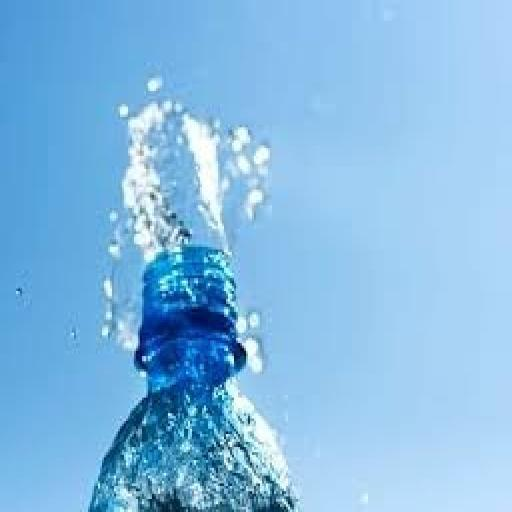bottle: (90, 235, 305, 512)
